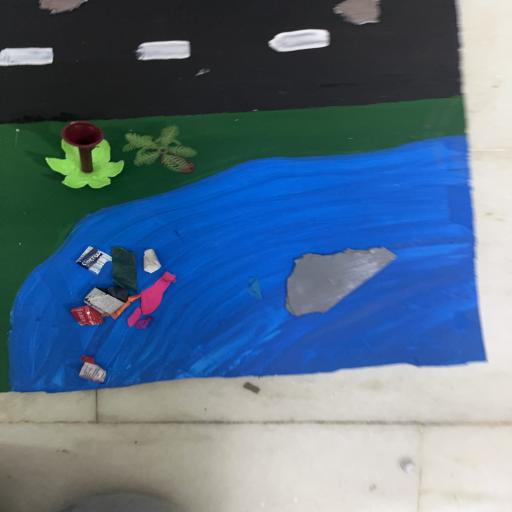encroachment: (290, 247, 402, 316)
fallen trees: (47, 120, 126, 192)
porthole: (328, 1, 388, 26), (36, 0, 92, 17)
trash: (71, 245, 175, 329), (76, 354, 111, 382)
